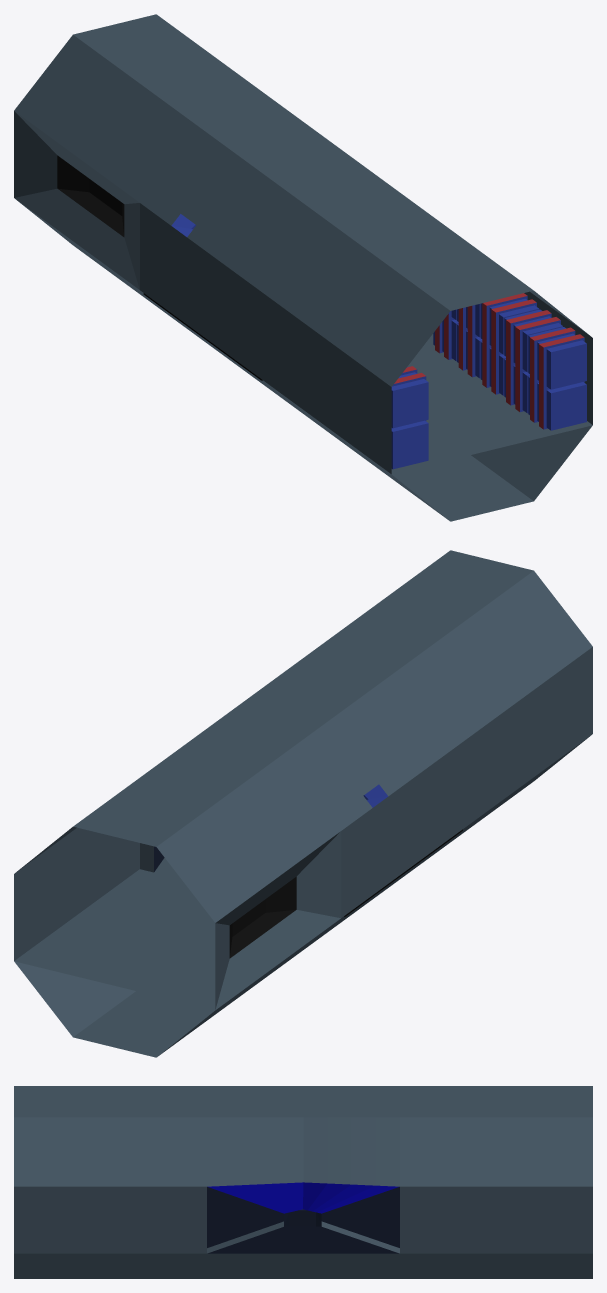
Rendered from I_rdy2_c.obj.
The picture shows the model from 3 angles, top to bottom: view 1: azimuth 30°, elevation 25°; view 2: azimuth 150°, elevation 25°; view 3: azimuth 270°, elevation 25°; orthographic projection. The views are drawn at different scales.
Parts seen in each view (by area): view 1: I.002_Cylinder.002; view 2: I.002_Cylinder.002; view 3: I.002_Cylinder.002.
Boxes of the visible parts, x1,y1,x2,y2 form: I.002_Cylinder.002: (14,14,592,521); I.002_Cylinder.002: (14,550,592,1057); I.002_Cylinder.002: (14,1086,592,1278).
Size of the model in its own units: 1.85 by 1.85 by 6.
